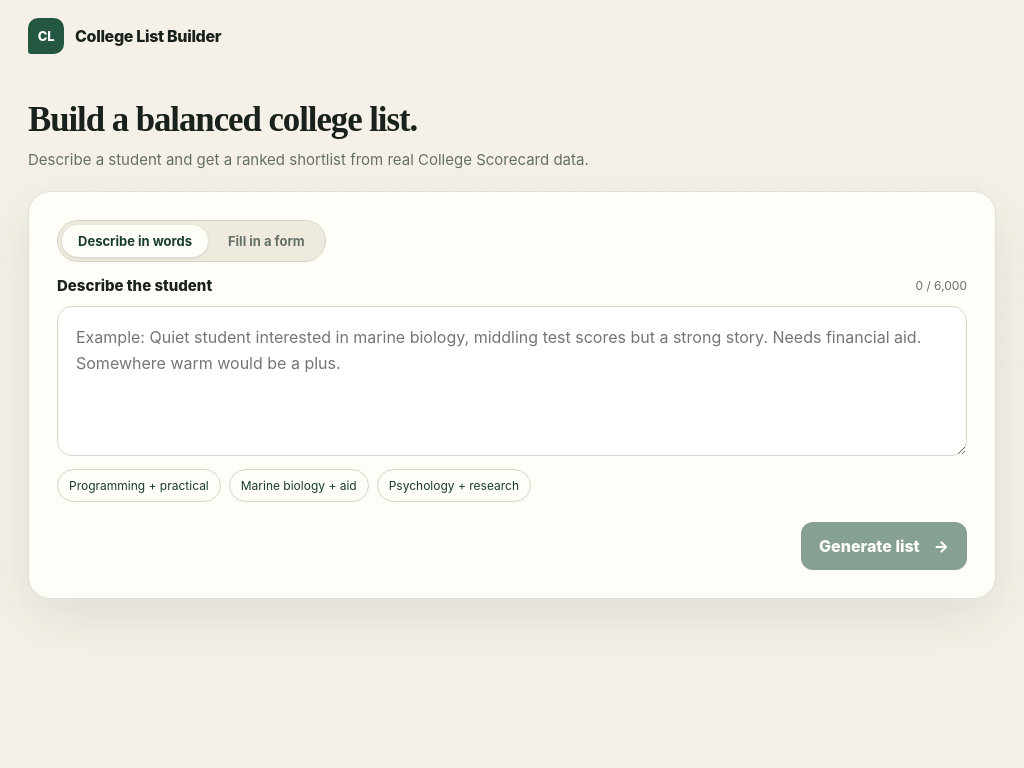
College List Builder › shows an error panel when generation fails
The image size is (1024, 768).
Type "A student who likes computer science and wants a balanced list." into the text box labelled "Describe the student". click: (512, 381)
box: [57,306,967,456]
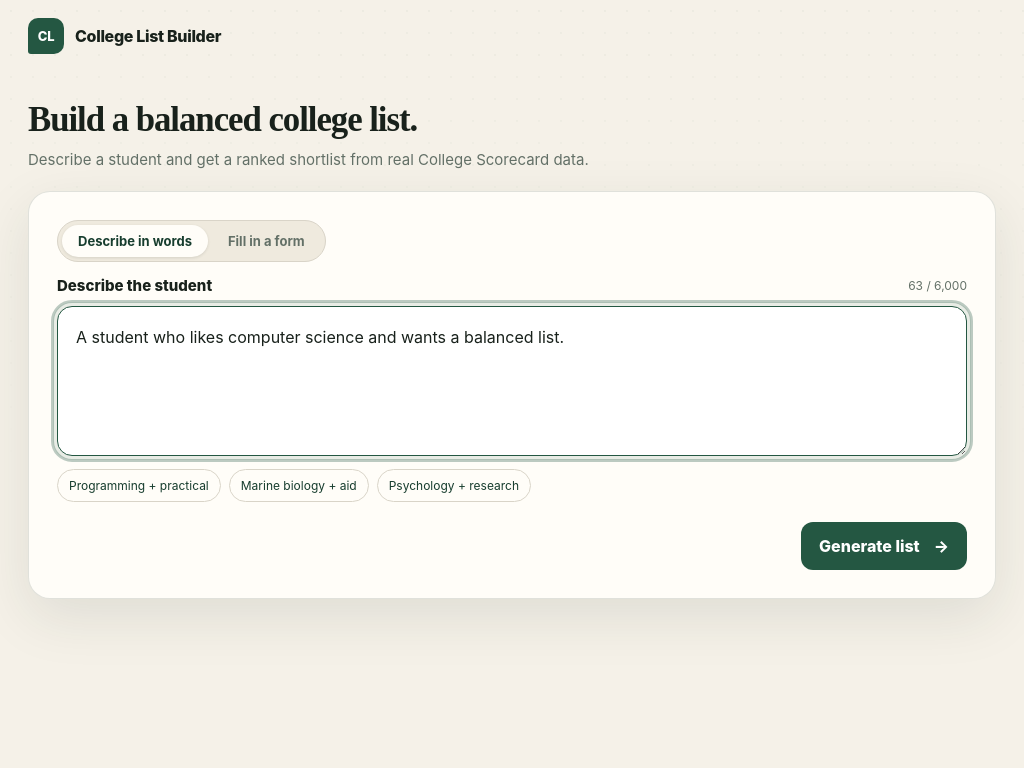
Click the button "Generate list →". click: (884, 546)
box: [801,522,967,570]
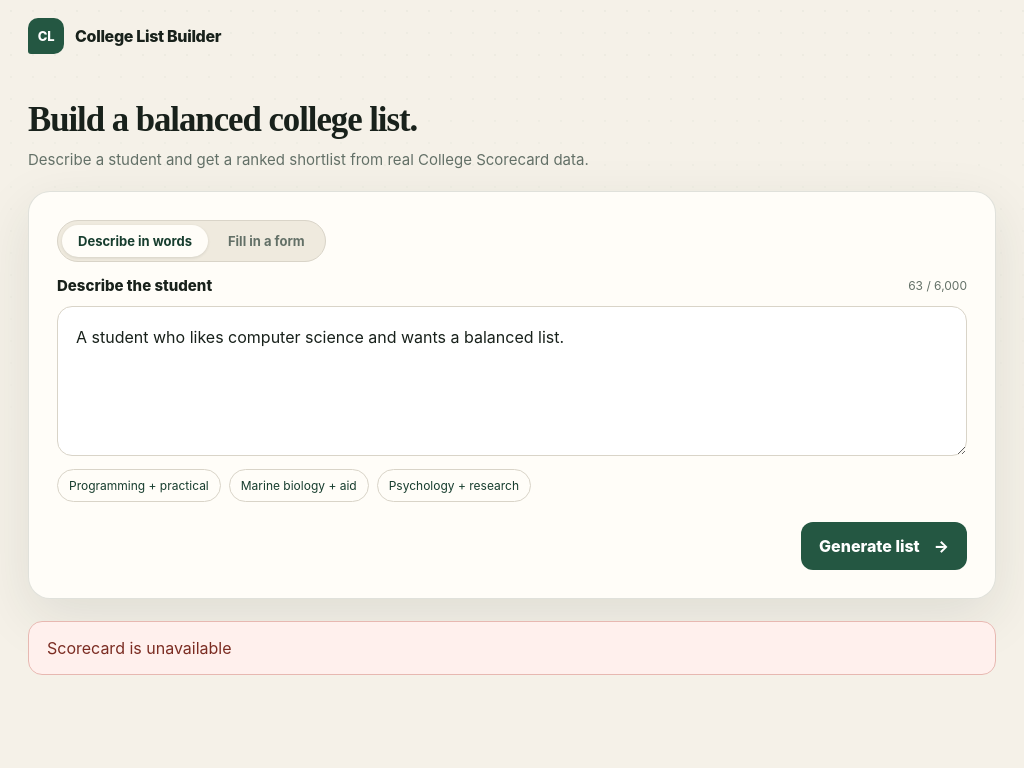
Now the text "Scorecard is unavailable" is shown, box [28,621,996,675]
